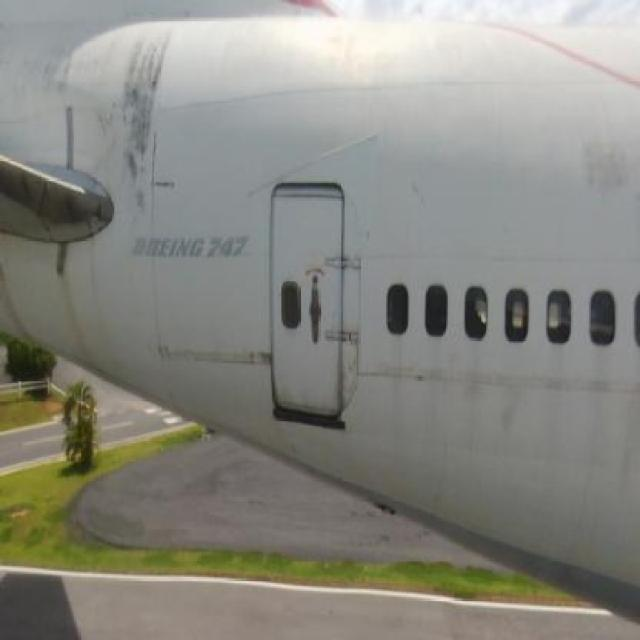Rust: (53, 266, 98, 374), (1, 252, 42, 342)
Scartch: (106, 26, 185, 217), (180, 340, 272, 374)
